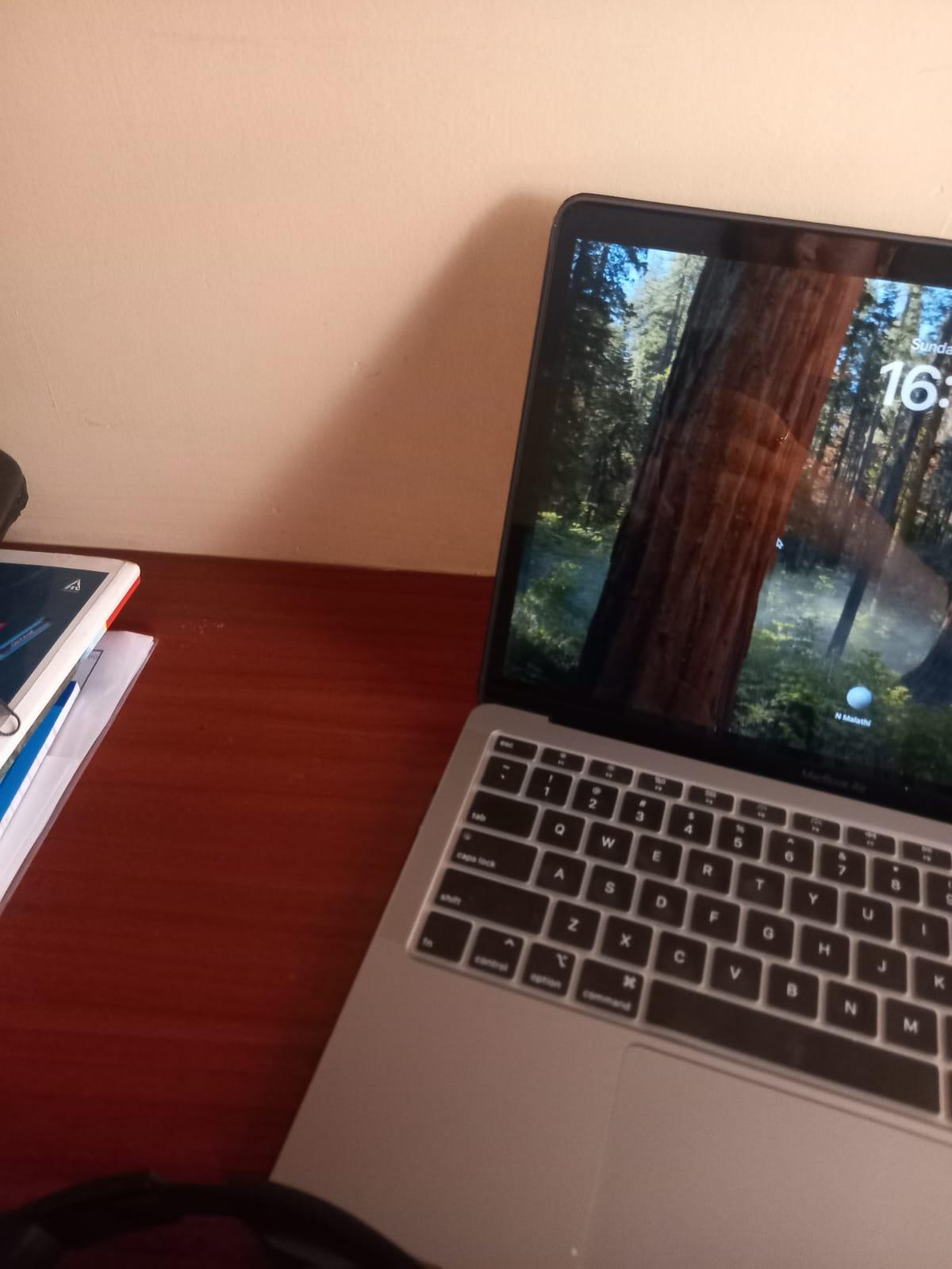laptop: (295, 196, 951, 1269)
notebooks: (0, 439, 178, 971)
